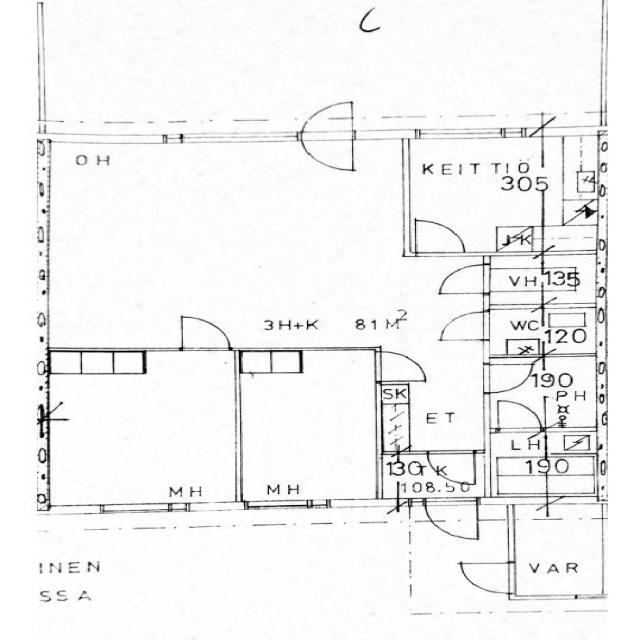door: (483, 356, 605, 432), (296, 102, 360, 175), (393, 449, 481, 495), (406, 216, 471, 260), (423, 498, 482, 542), (173, 314, 234, 352), (432, 261, 493, 298), (480, 359, 537, 396), (434, 308, 491, 344), (456, 560, 514, 595), (372, 348, 428, 384), (491, 397, 545, 434)
window: (179, 131, 300, 148), (413, 125, 511, 142), (244, 499, 313, 513), (186, 500, 236, 511)
zone: (45, 139, 411, 351), (43, 352, 241, 514), (236, 348, 380, 506), (407, 134, 546, 255), (486, 357, 604, 432), (511, 514, 604, 598), (492, 430, 600, 499), (483, 306, 603, 358), (486, 254, 602, 306), (386, 448, 485, 498)
